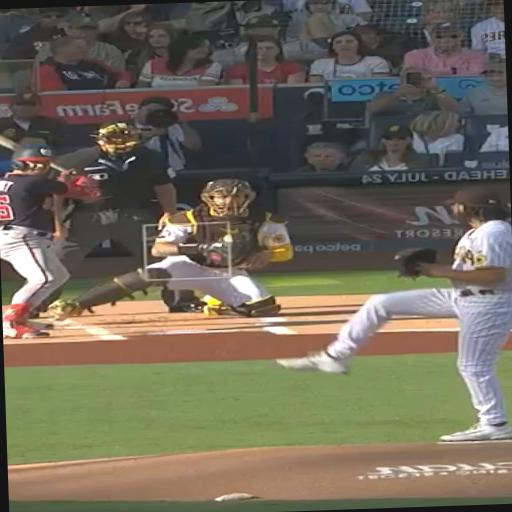bat: (0, 134, 18, 150)
